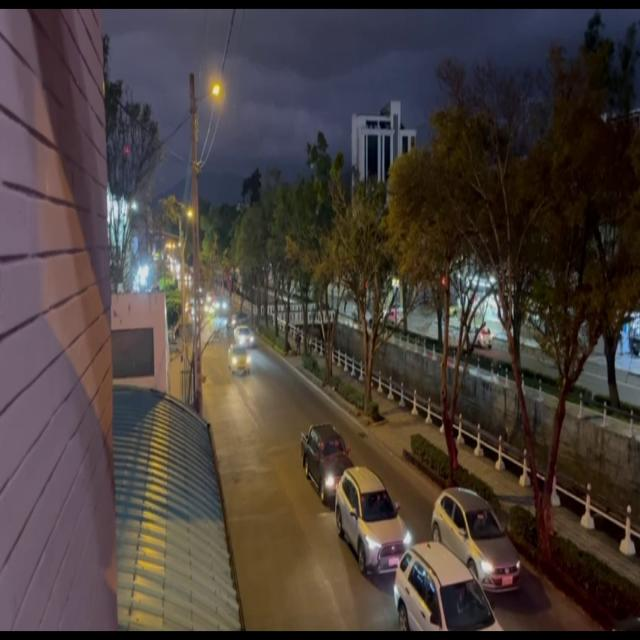CMT: (302, 423, 348, 505)
SUV: (336, 465, 404, 568)
